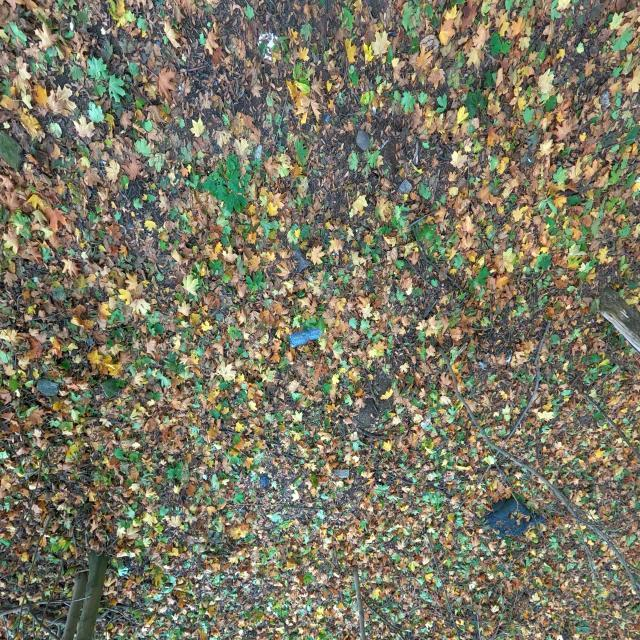rubbish: (92, 101, 156, 144), (313, 291, 352, 313), (361, 579, 382, 608), (227, 445, 244, 461), (370, 154, 381, 164), (308, 517, 315, 527)
